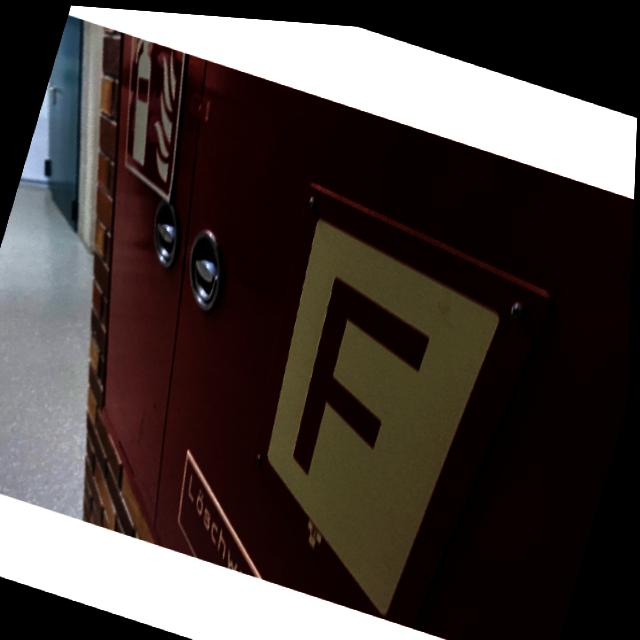fire extinguisher: (201, 173, 567, 639)
